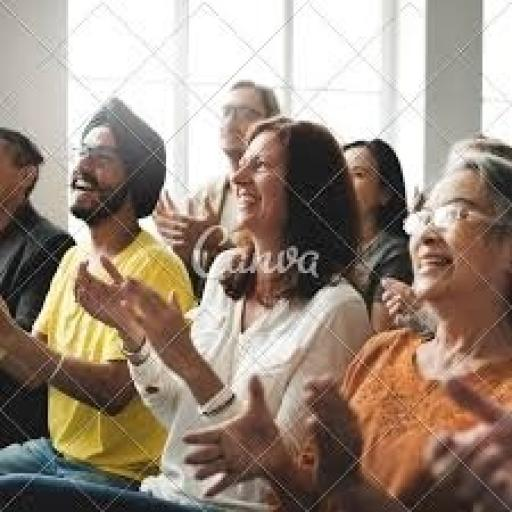clapping: (180, 134, 510, 510), (68, 114, 378, 510), (0, 96, 198, 510)
